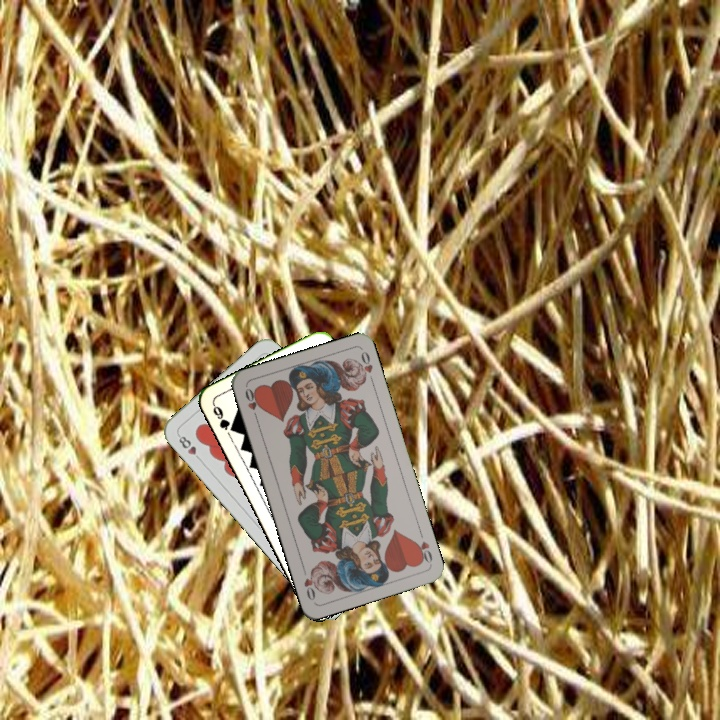G9: (209, 400, 239, 435)
H8: (174, 430, 205, 464)
HO: (411, 527, 435, 566), (241, 384, 262, 423)
